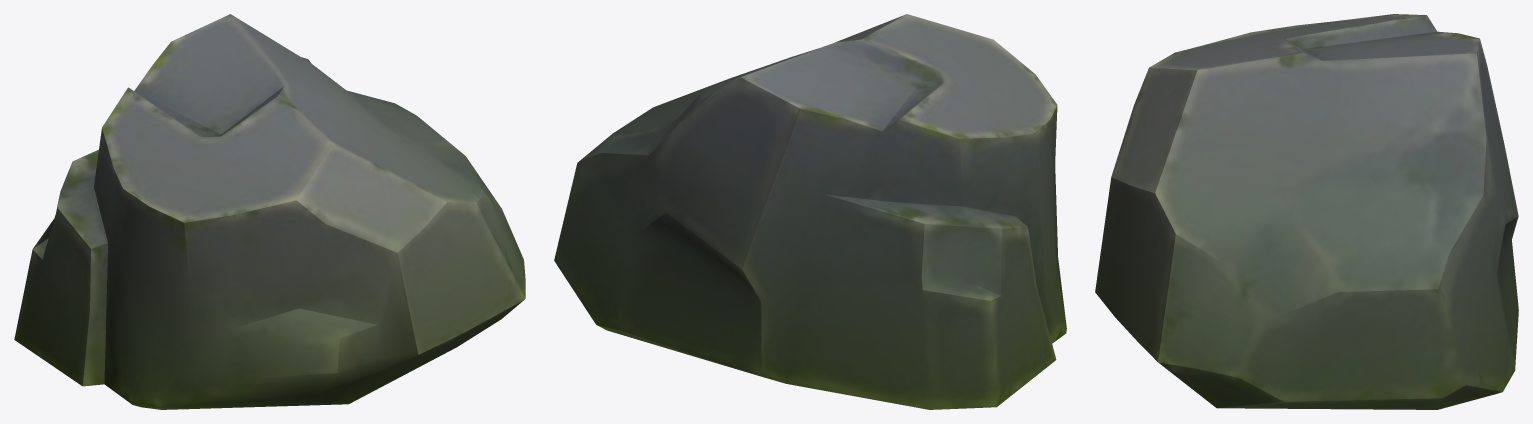
The model's file is Rock_Medium_2.gltf.
3 renders of one model, left to right at view 1: azimuth 30°, elevation 25°; view 2: azimuth 150°, elevation 25°; view 3: azimuth 270°, elevation 25°, orthographic. The views are drawn at different scales.
Visible parts, largest first — view 1: Rock_Medium_2; view 2: Rock_Medium_2; view 3: Rock_Medium_2.
Boxes of the visible parts, x1,y1,x2,y2 form: Rock_Medium_2: [14, 14, 525, 409]; Rock_Medium_2: [554, 14, 1066, 409]; Rock_Medium_2: [1095, 14, 1518, 409].
Bounding box in the file's own units: 3.05 × 1.9 × 2.48.
1 material, 1 textured.
